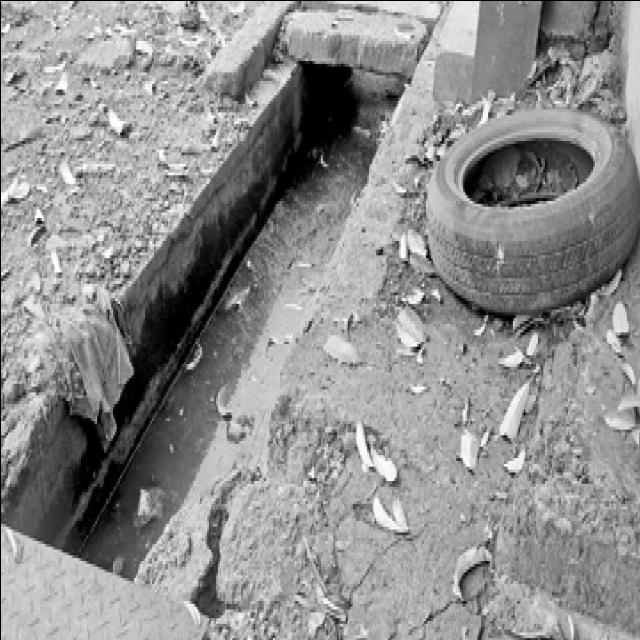Breeding Place: (0, 58, 399, 581), (416, 110, 640, 321)
